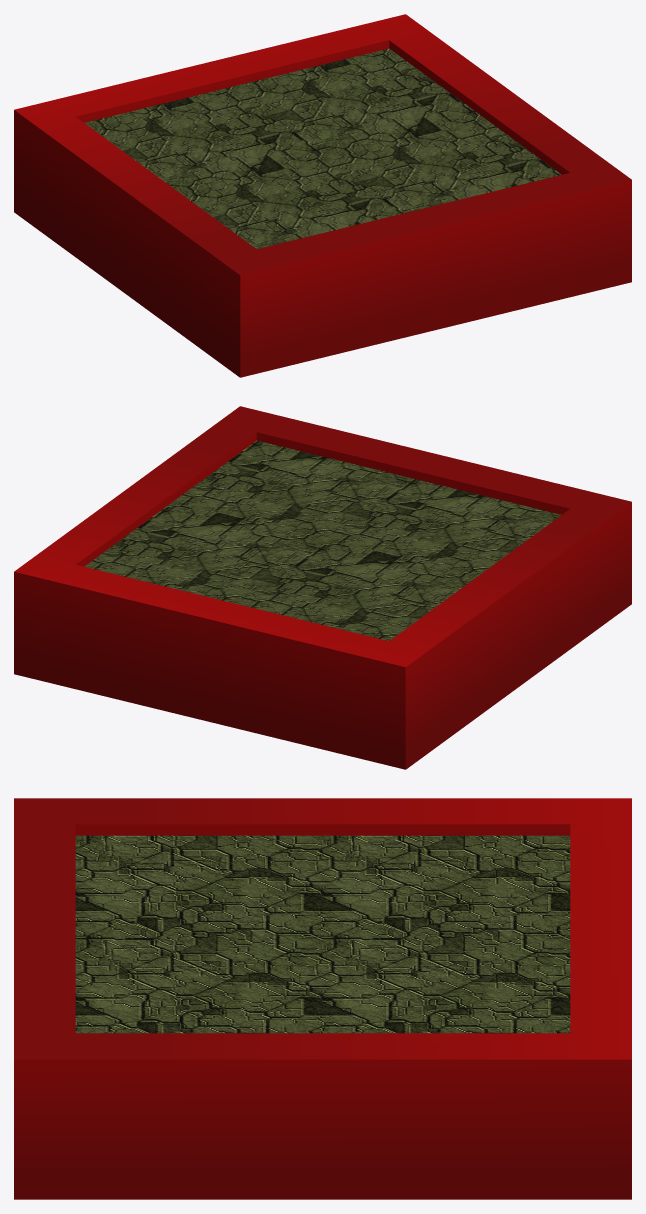
File: TILE_001_Battle.fbx
The picture shows the model from 3 angles, top to bottom: view 1: azimuth 30°, elevation 25°; view 2: azimuth 150°, elevation 25°; view 3: azimuth 270°, elevation 25°; orthographic projection. The views are drawn at different scales.
Visible parts, largest first — view 1: TILE_001_Battle; view 2: TILE_001_Battle; view 3: TILE_001_Battle.
Part boxes in pixels (left/top/right/bottom): TILE_001_Battle: left=14, top=14, right=631, bottom=377; TILE_001_Battle: left=14, top=406, right=631, bottom=769; TILE_001_Battle: left=14, top=798, right=631, bottom=1199.
Size of the model in its own units: 98.43 by 24.61 by 98.43.
